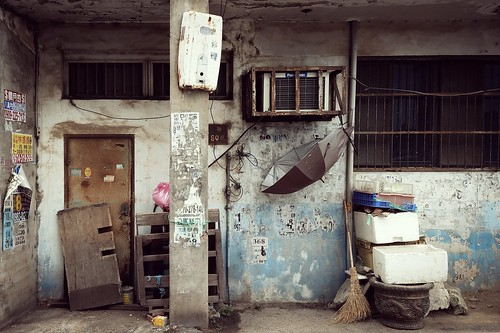building: (11, 1, 500, 325)
door: (60, 134, 134, 298)
trash: (338, 177, 452, 333)
umbrella: (260, 123, 348, 213)
